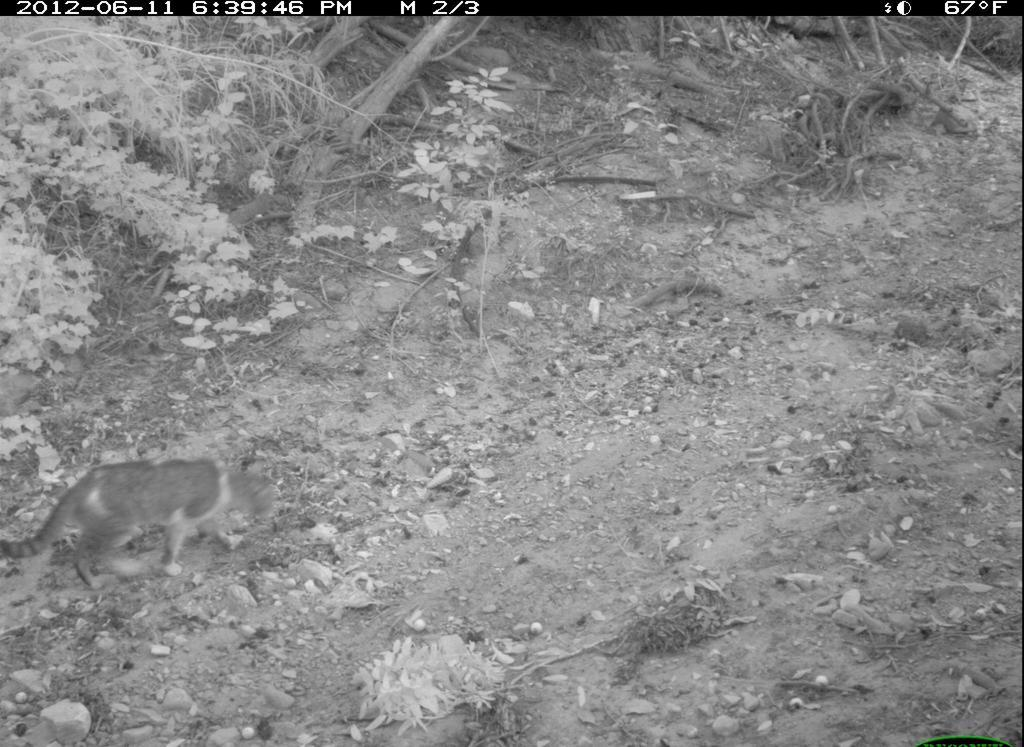cat: (4, 457, 290, 592)
